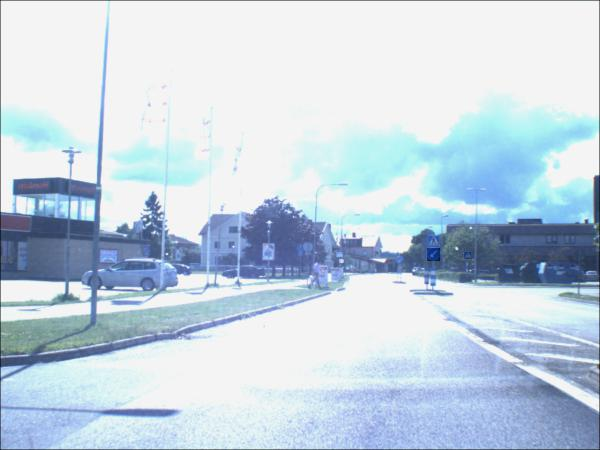PASS_RIGHT_SIDE: (427, 249, 441, 263), (397, 257, 404, 265)
PEDESTRIAN_CROSSING: (427, 237, 440, 249), (464, 253, 472, 261), (336, 253, 344, 259)
PRIORITY_ROAD: (339, 260, 345, 265)
